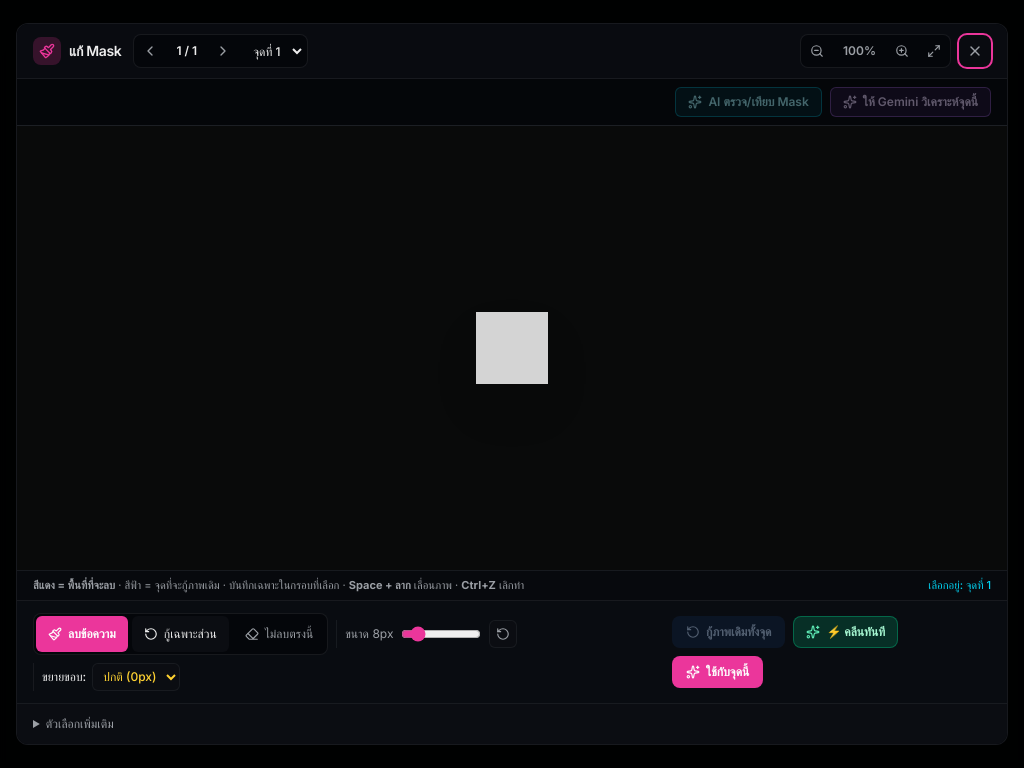
MaskEditor › preserved region offers force clean, protect, and automatic actions
Click the heading "ตัวเลือกเพิ่มเติม".
click(80, 724)  # box [46,716,114,731]
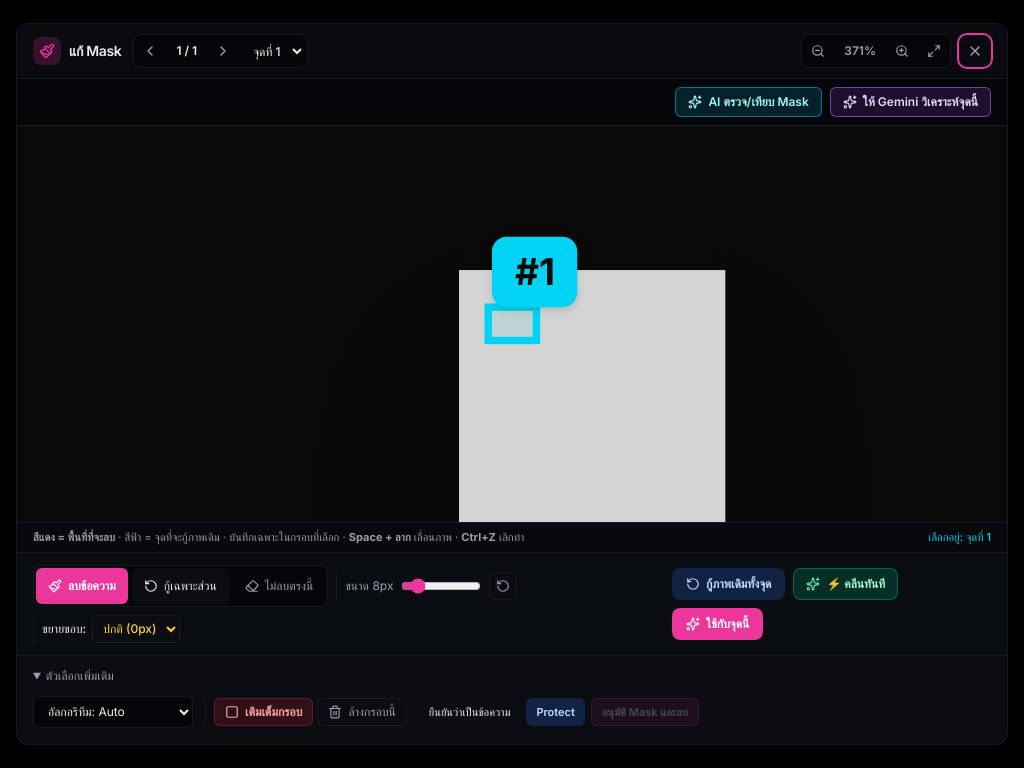
Result: the button "อนุมัติ Mask และลบ" is disabled at [591,698,699,726]
Result: the button "Protect" is enabled at [526,698,585,726]
Result: the button "ยืนยันว่าเป็นข้อความ" is enabled at [419,698,520,726]
